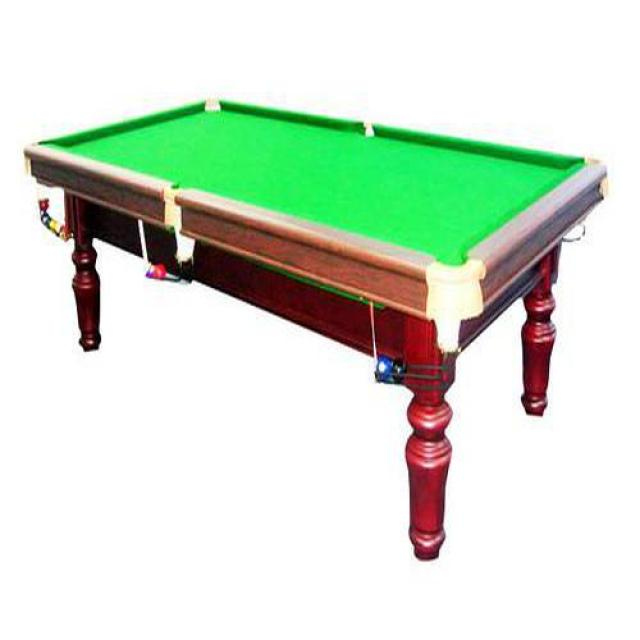table: (23, 100, 609, 561)
